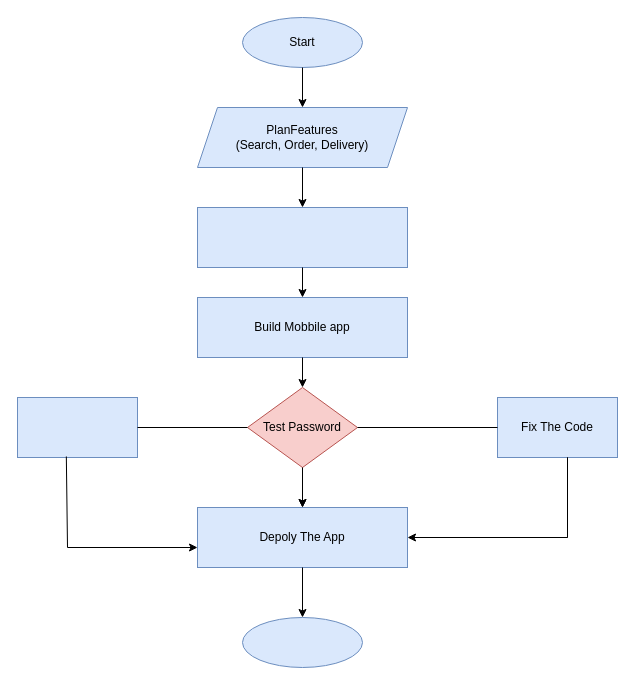
Image size: 635x685. Some labels were removed from this diagram. Here are the shapes that lost their labels. From the top down, the box of each, then its label:
(196, 206, 408, 268): Code (Services, Menu, Cart, Orders, Delivery)
(16, 396, 138, 458): Release The App
(242, 616, 362, 668): End
